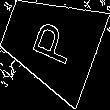P_W: (24, 16, 77, 69)
